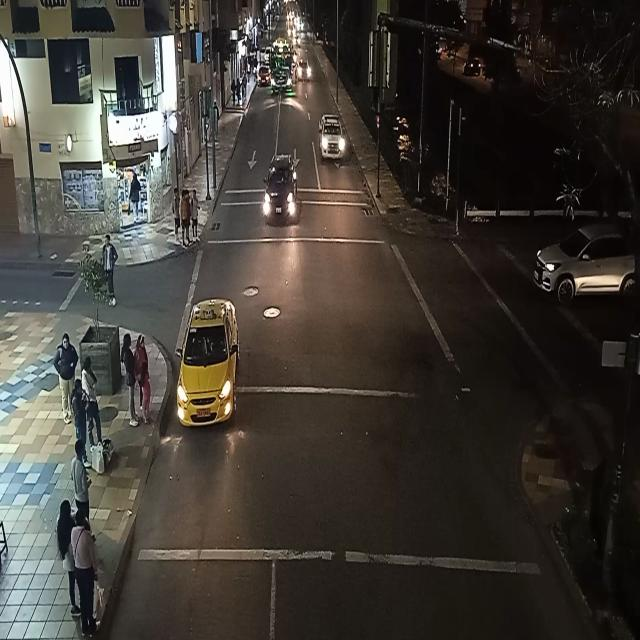CMT: (534, 226, 633, 296), (322, 119, 344, 160)
SED: (176, 300, 237, 425)
SUV: (266, 159, 296, 224)
